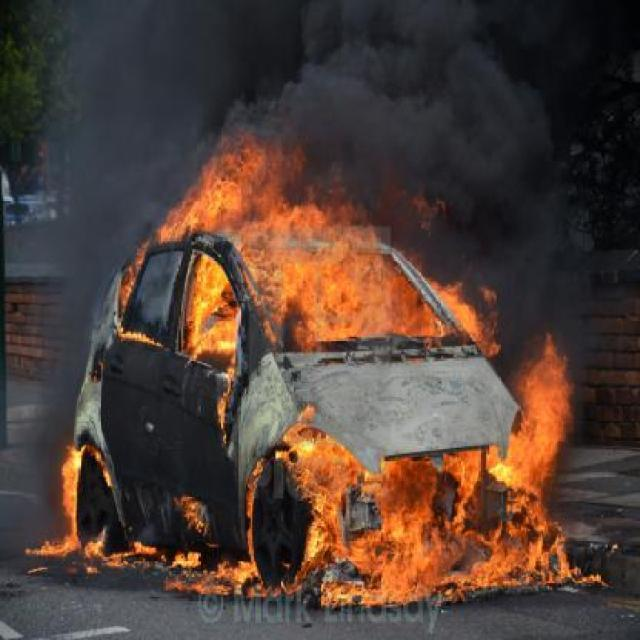Fire: (40, 147, 612, 600)
Smoke: (265, 0, 615, 500), (18, 0, 250, 543)
